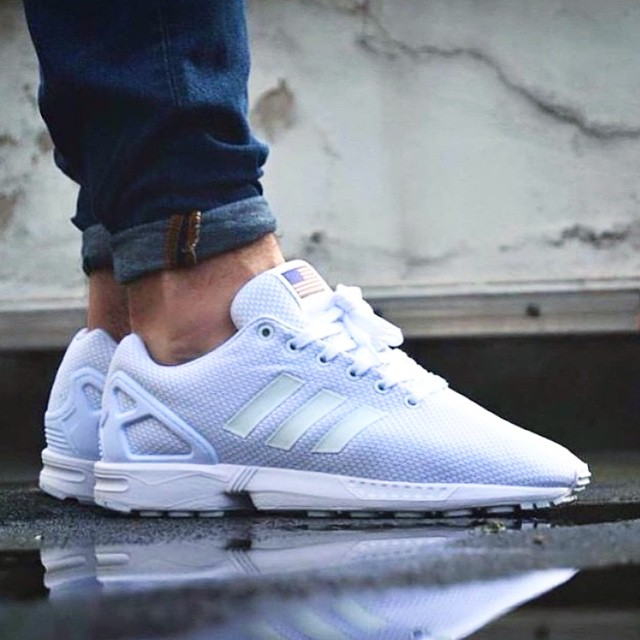sneaker: (75, 226, 618, 554), (22, 241, 134, 522)
